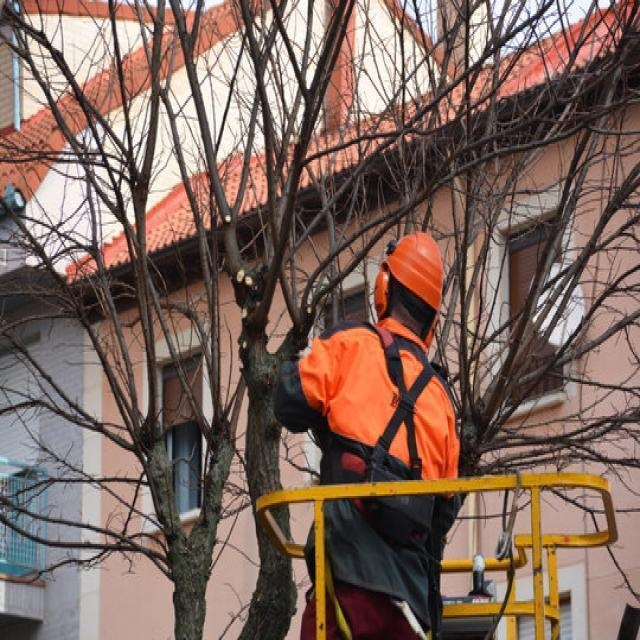Arnes_seguridad: (305, 324, 452, 555)
